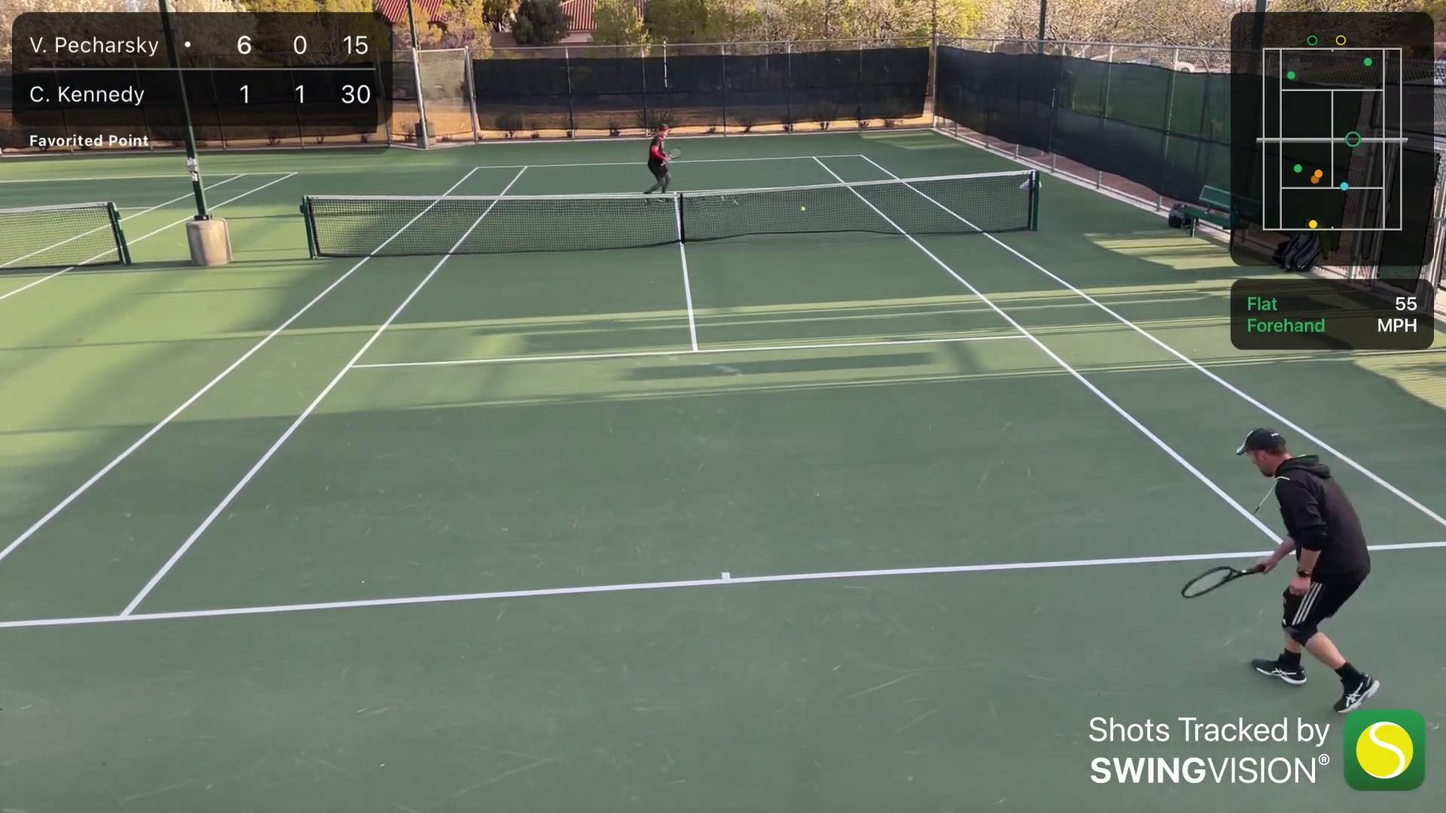ball: (802, 207, 807, 212)
